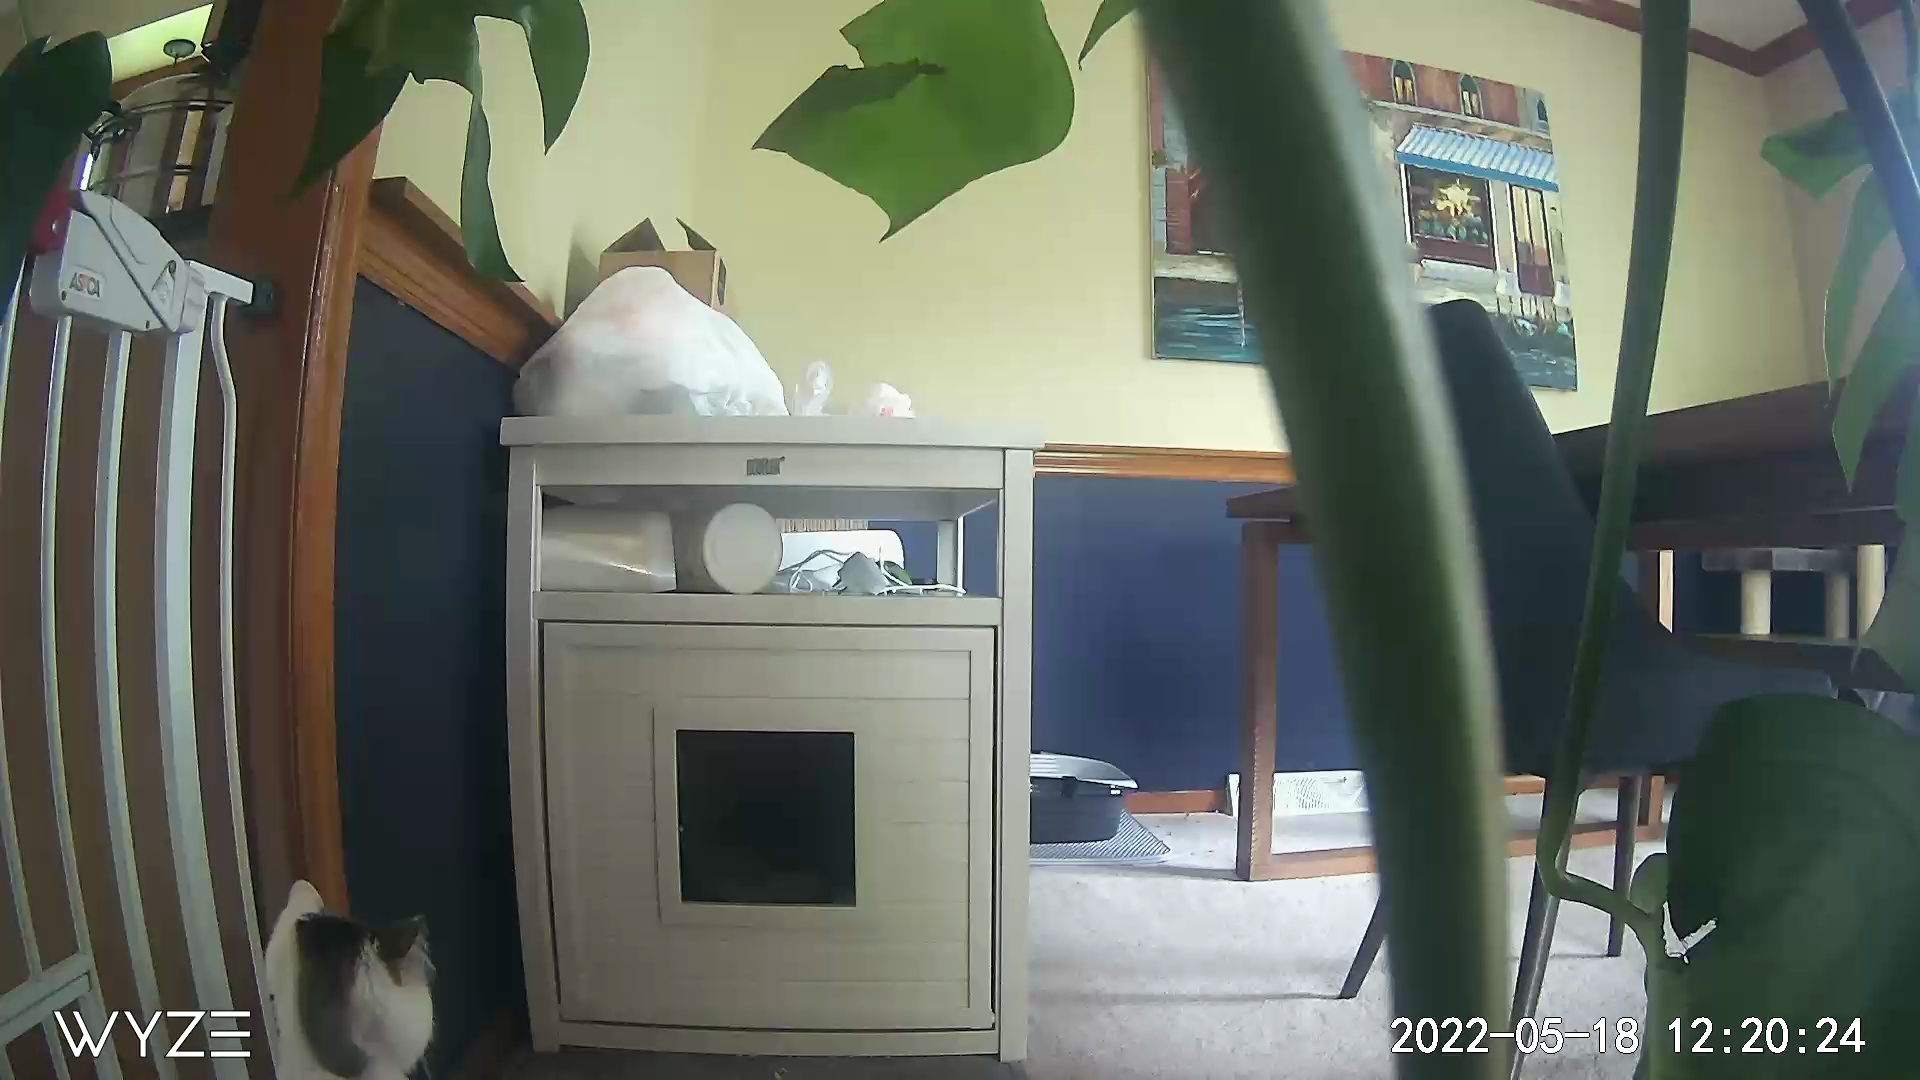maoxin: (280, 881, 434, 1080)
